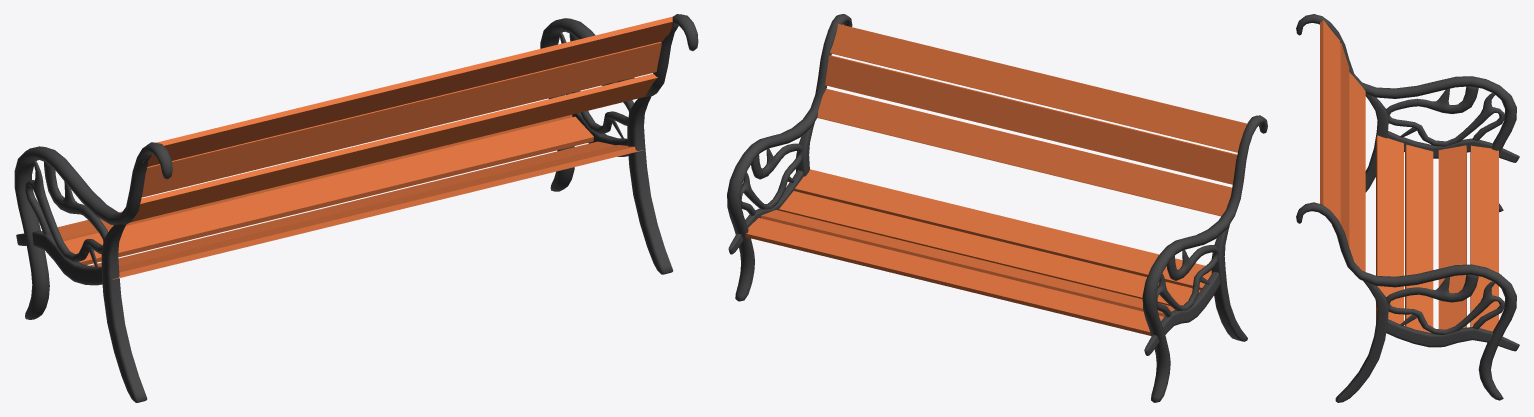
File: Bench.fbx
The picture shows the model from 3 angles, left to right: view 1: azimuth 30°, elevation 25°; view 2: azimuth 150°, elevation 25°; view 3: azimuth 270°, elevation 25°; orthographic projection. The views are drawn at different scales.
Visible parts, largest first — view 1: Bench; view 2: Bench; view 3: Bench.
Boxes of the visible parts, bbox=[...] form: Bench: bbox=[14, 14, 698, 402]; Bench: bbox=[727, 14, 1267, 402]; Bench: bbox=[1296, 14, 1519, 402].
Bounding box in the file's own units: 356 × 170 × 174.
